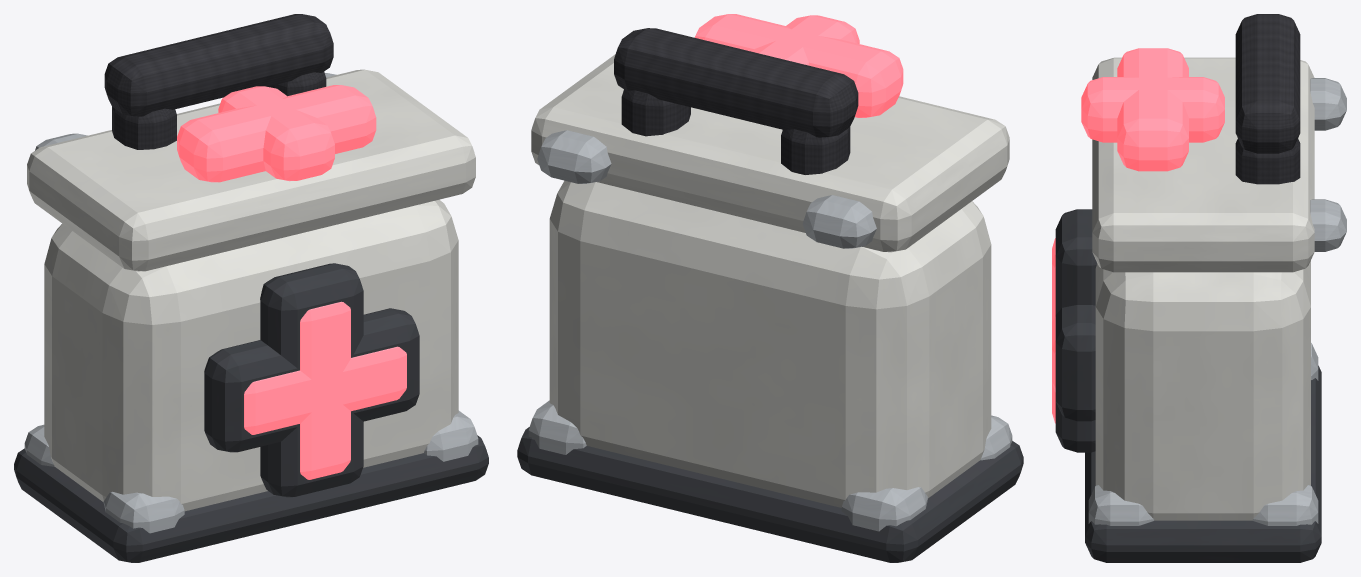
File: pickup_health_pack.glb
The picture shows the model from 3 angles, left to right: view 1: azimuth 30°, elevation 25°; view 2: azimuth 150°, elevation 25°; view 3: azimuth 270°, elevation 25°; orthographic projection. The views are drawn at different scales.
Visible parts, largest first — view 1: pickup_health_pack_body, pickup_health_pack_lid, pickup_health_pack_skirt, pickup_health_pack_handle_bar, pickup_health_pack_bezel_v, pickup_health_pack_bezel_h, pickup_health_pack_cross_top_h, pickup_health_pack_cross_v, pickup_health_pack_cross_h, pickup_health_pack_cross_top_v, pickup_health_pack_bumper_lf, pickup_health_pack_handle_post_l (+3 smaller); view 2: pickup_health_pack_body, pickup_health_pack_lid, pickup_health_pack_skirt, pickup_health_pack_handle_bar, pickup_health_pack_cross_top_h, pickup_health_pack_hinge_l, pickup_health_pack_hinge_r, pickup_health_pack_bumper_lb, pickup_health_pack_handle_post_l, pickup_health_pack_handle_post_r, pickup_health_pack_cross_top_v, pickup_health_pack_bumper_rb (+1 smaller); view 3: pickup_health_pack_body, pickup_health_pack_lid, pickup_health_pack_skirt, pickup_health_pack_handle_bar, pickup_health_pack_cross_top_h, pickup_health_pack_cross_top_v, pickup_health_pack_bezel_v, pickup_health_pack_bezel_h, pickup_health_pack_handle_post_r, pickup_health_pack_bumper_rb, pickup_health_pack_bumper_rf, pickup_health_pack_hinge_l (+2 smaller).
Boxes of the visible parts, x1,y1,x2,y2 form: pickup_health_pack_body: (44,199,458,511); pickup_health_pack_lid: (27,69,475,271); pickup_health_pack_skirt: (14,435,488,562); pickup_health_pack_handle_bar: (104,14,333,116); pickup_health_pack_bezel_v: (260,263,363,497); pickup_health_pack_bezel_h: (204,308,419,452); pickup_health_pack_cross_top_h: (177,85,376,182); pickup_health_pack_cross_v: (300,301,350,479); pickup_health_pack_cross_h: (244,346,406,434); pickup_health_pack_cross_top_v: (218,86,334,181); pickup_health_pack_bumper_lf: (103,491,184,533); pickup_health_pack_handle_post_l: (112,107,176,149); pickup_health_pack_body: (549,180,991,507); pickup_health_pack_lid: (531,54,1009,252); pickup_health_pack_skirt: (517,427,1023,562); pickup_health_pack_handle_bar: (614,28,858,137); pickup_health_pack_cross_top_h: (695,14,903,117); pickup_health_pack_hinge_l: (802,195,876,248); pickup_health_pack_hinge_r: (537,130,611,183); pickup_health_pack_bumper_lb: (841,487,927,531); pickup_health_pack_handle_post_l: (781,127,850,174); pickup_health_pack_handle_post_r: (621,89,690,136); pickup_health_pack_cross_top_v: (751,15,859,65); pickup_health_pack_bumper_rb: (528,400,586,454); pickup_health_pack_body: (1095,260,1310,520); pickup_health_pack_lid: (1092,57,1314,272); pickup_health_pack_skirt: (1085,365,1321,562); pickup_health_pack_handle_bar: (1235,14,1300,153); pickup_health_pack_cross_top_h: (1117,48,1188,171); pickup_health_pack_cross_top_v: (1081,77,1224,142); pickup_health_pack_bezel_v: (1055,209,1096,452); pickup_health_pack_bezel_h: (1055,305,1095,421); pickup_health_pack_handle_post_r: (1235,138,1300,184); pickup_health_pack_bumper_rb: (1252,485,1318,525); pickup_health_pack_bumper_rf: (1088,485,1154,525); pickup_health_pack_hinge_l: (1310,78,1346,130).
Size of the model in its own units: 0.3 by 0.325 by 0.2055.
Materials: 5 (4 with a texture image).
